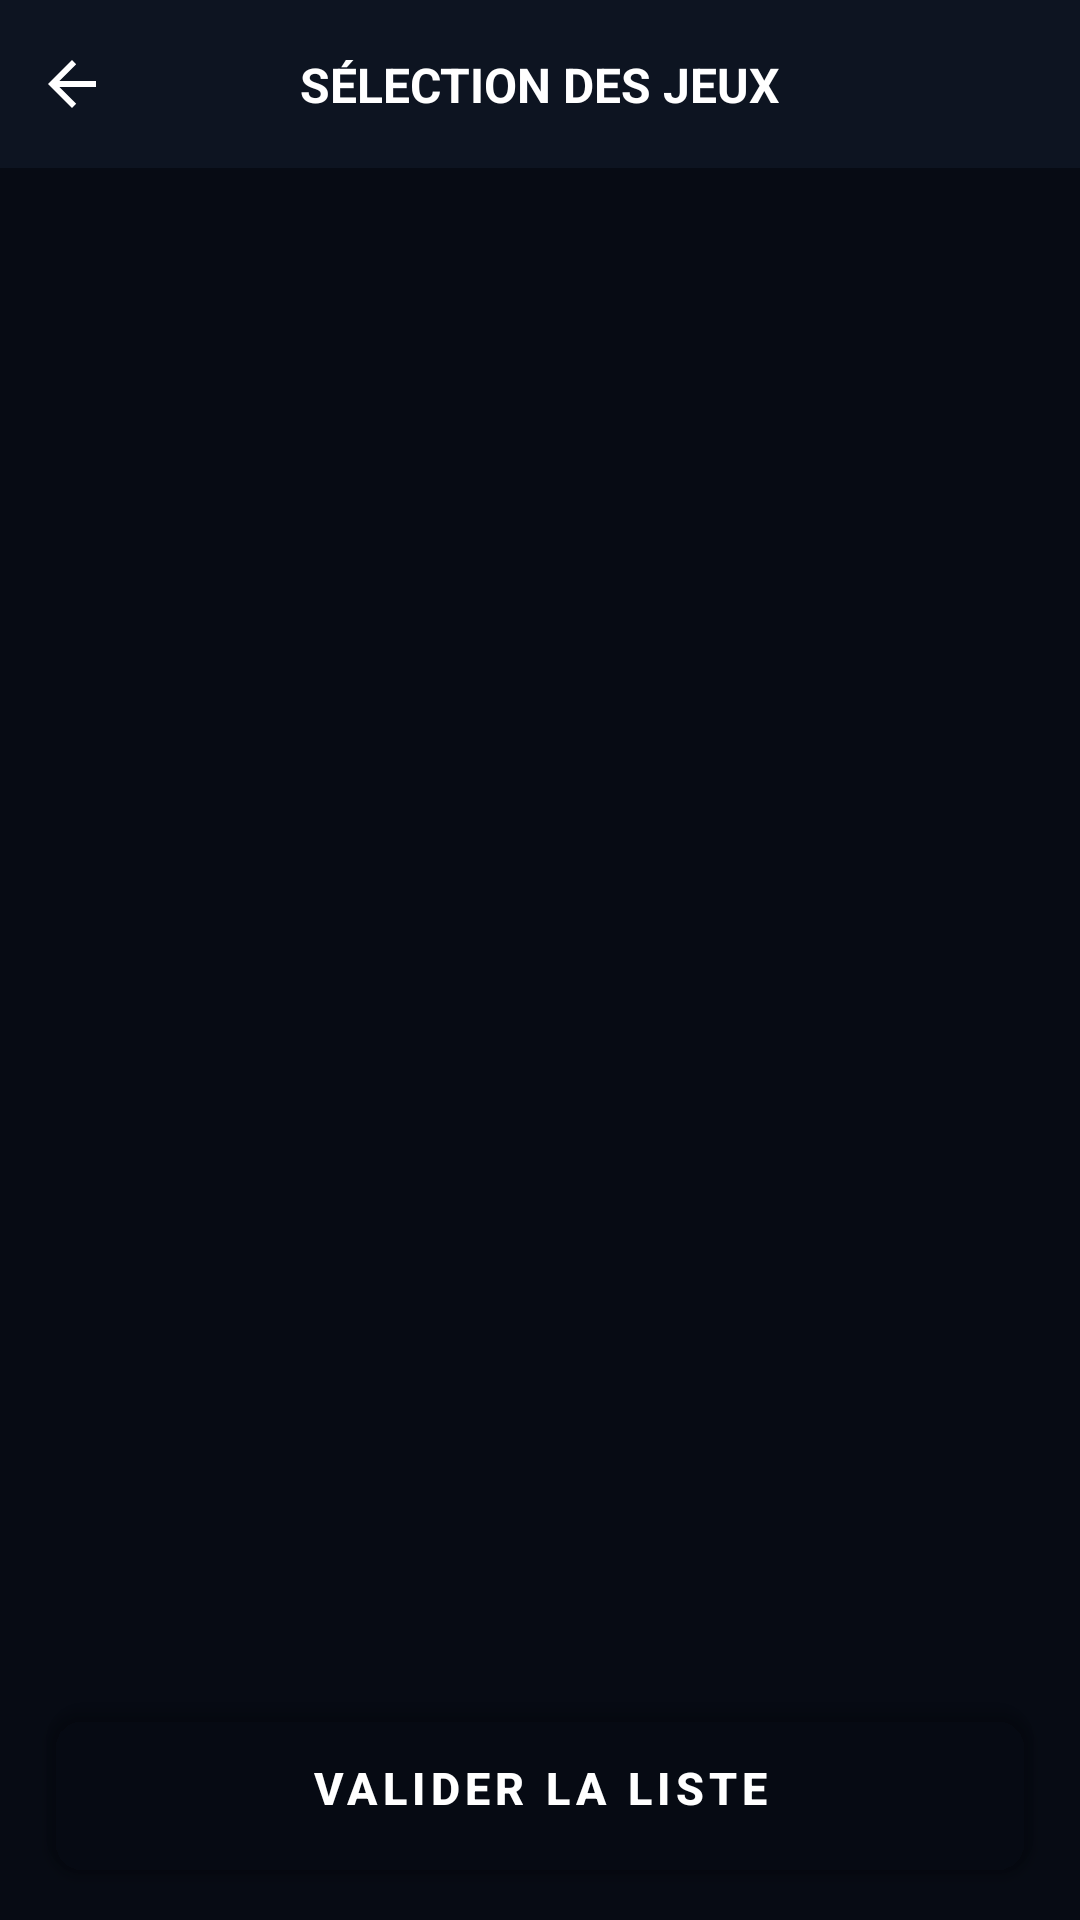

Named icons in this screenshot (1080w x 1920h) and their centers, point (x, y):
ab back: point (72, 84)
